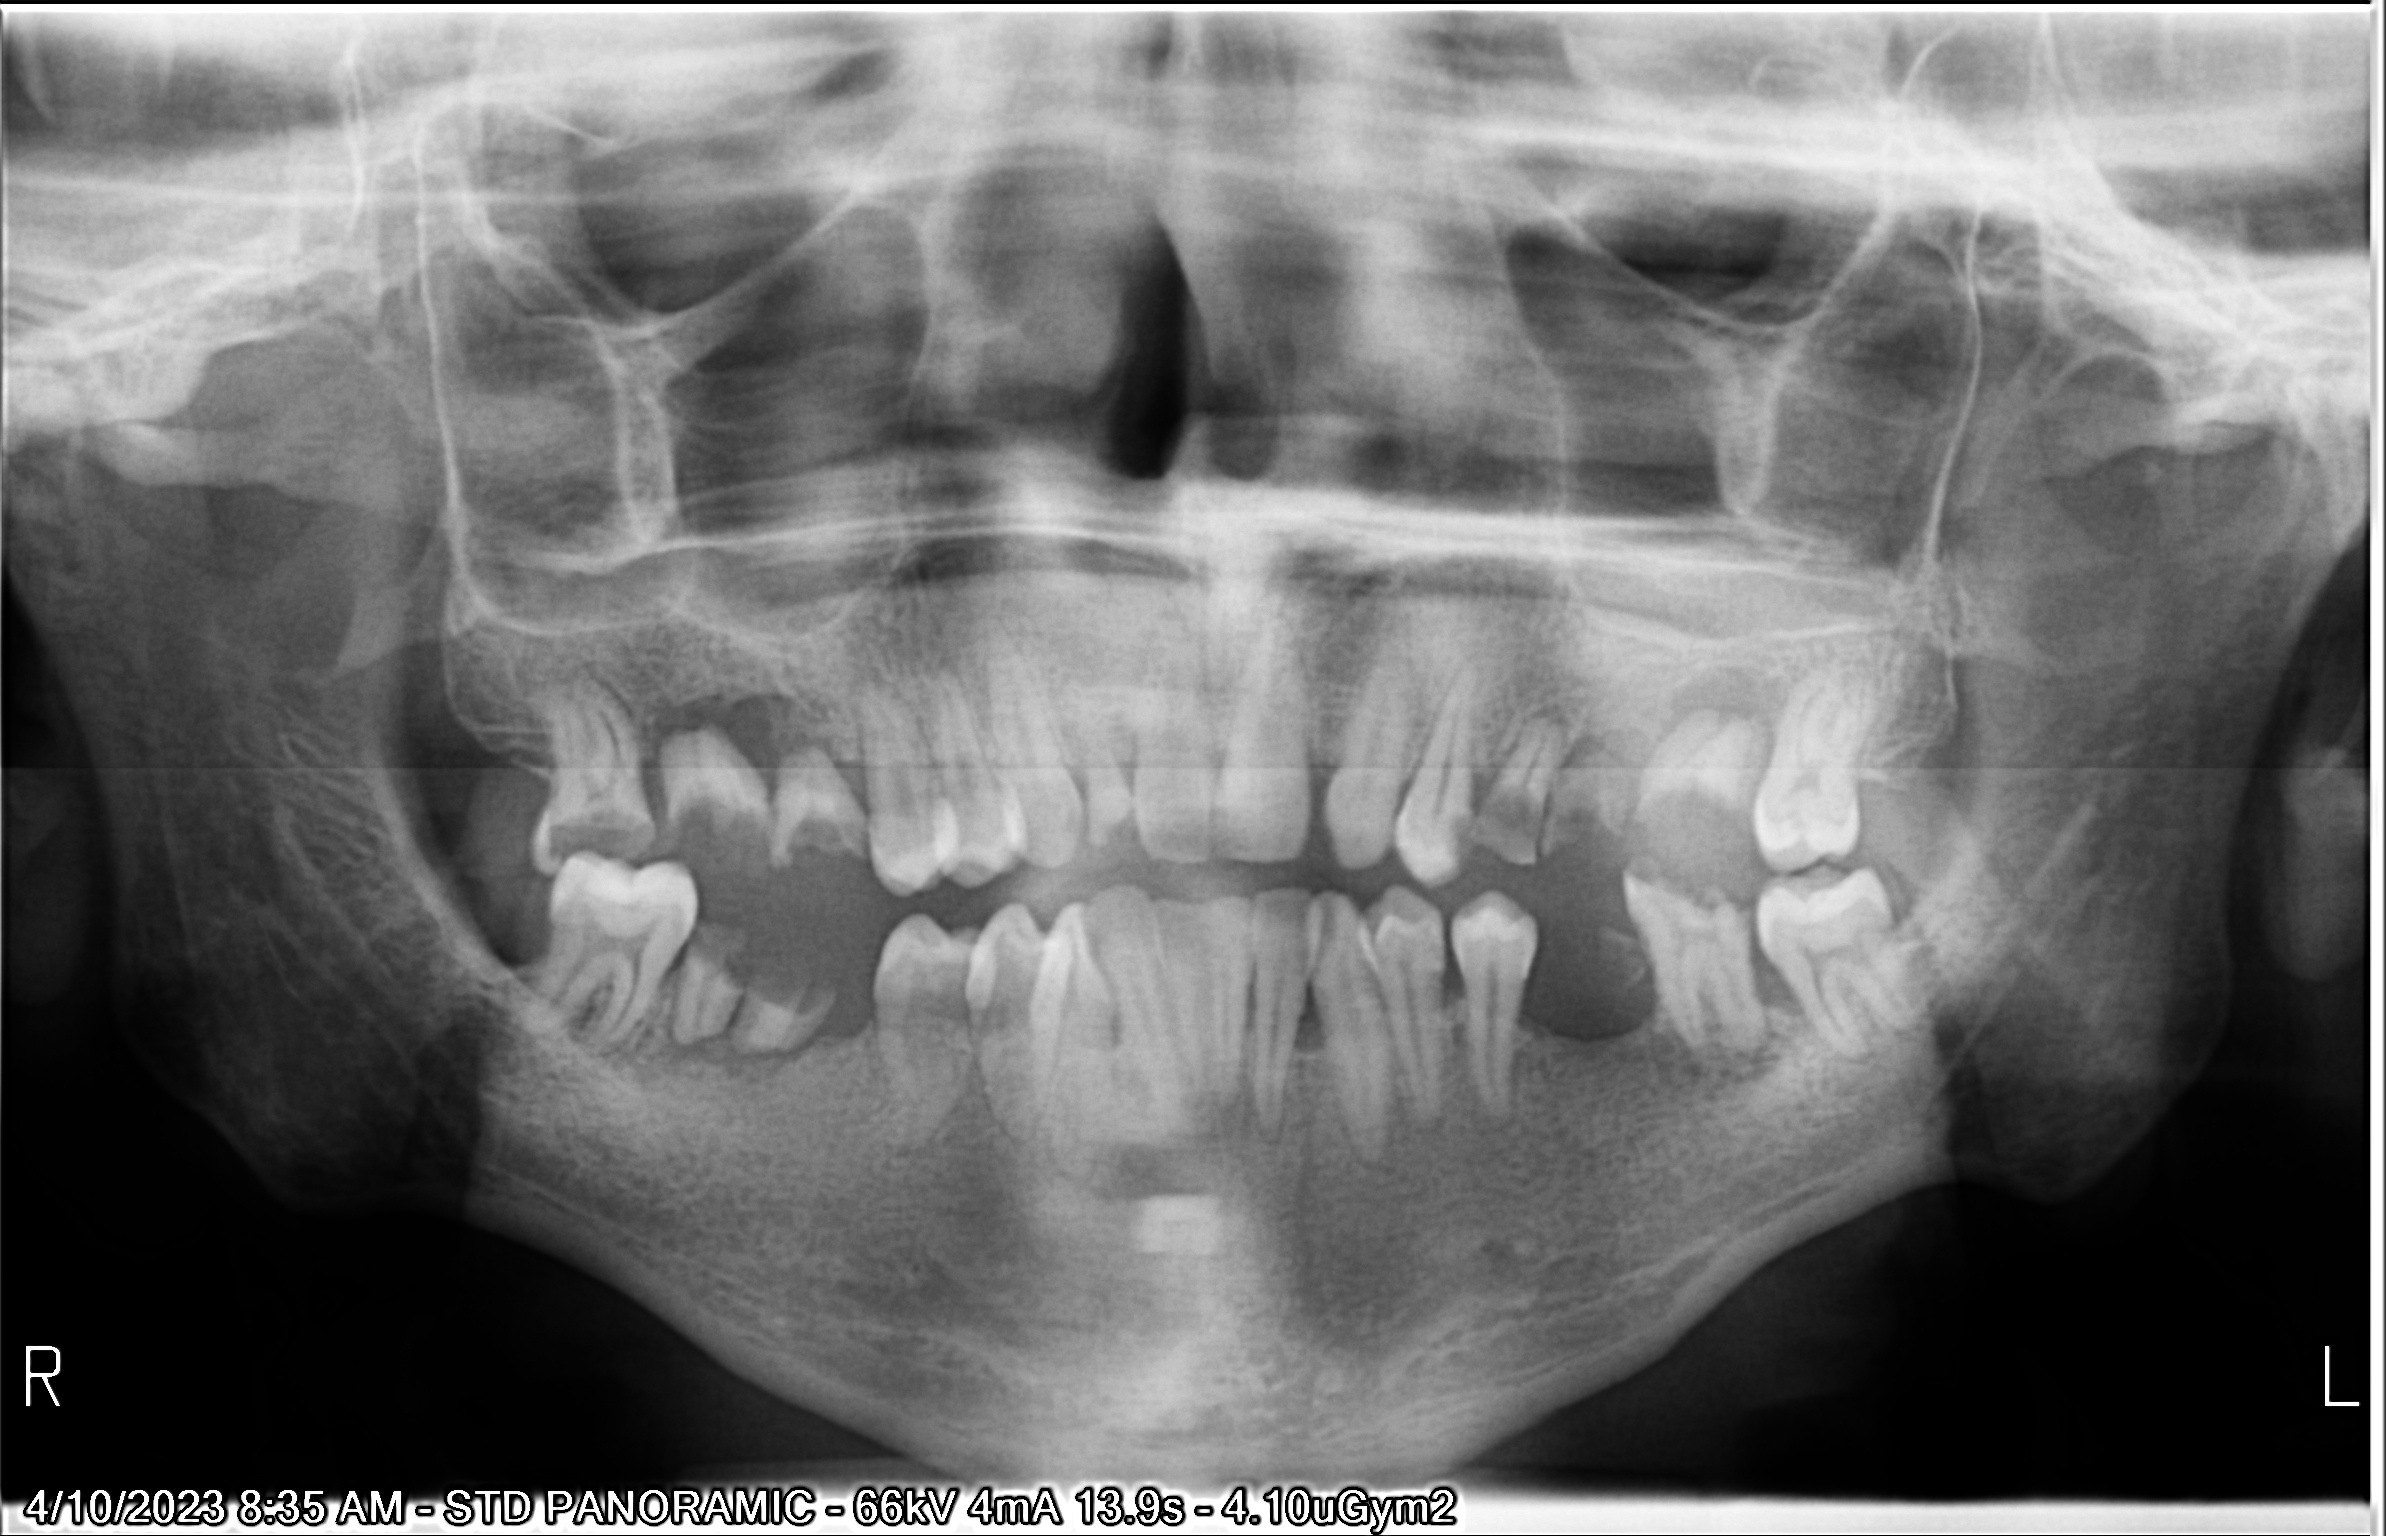API: (1666, 658, 1779, 767), (1503, 647, 1598, 760)
CAR: (490, 774, 631, 892), (1464, 779, 1562, 880), (1070, 790, 1155, 878)
ROT: (654, 925, 875, 1117), (1621, 687, 1756, 889), (647, 694, 765, 885), (760, 724, 856, 870), (1553, 743, 1610, 858)
